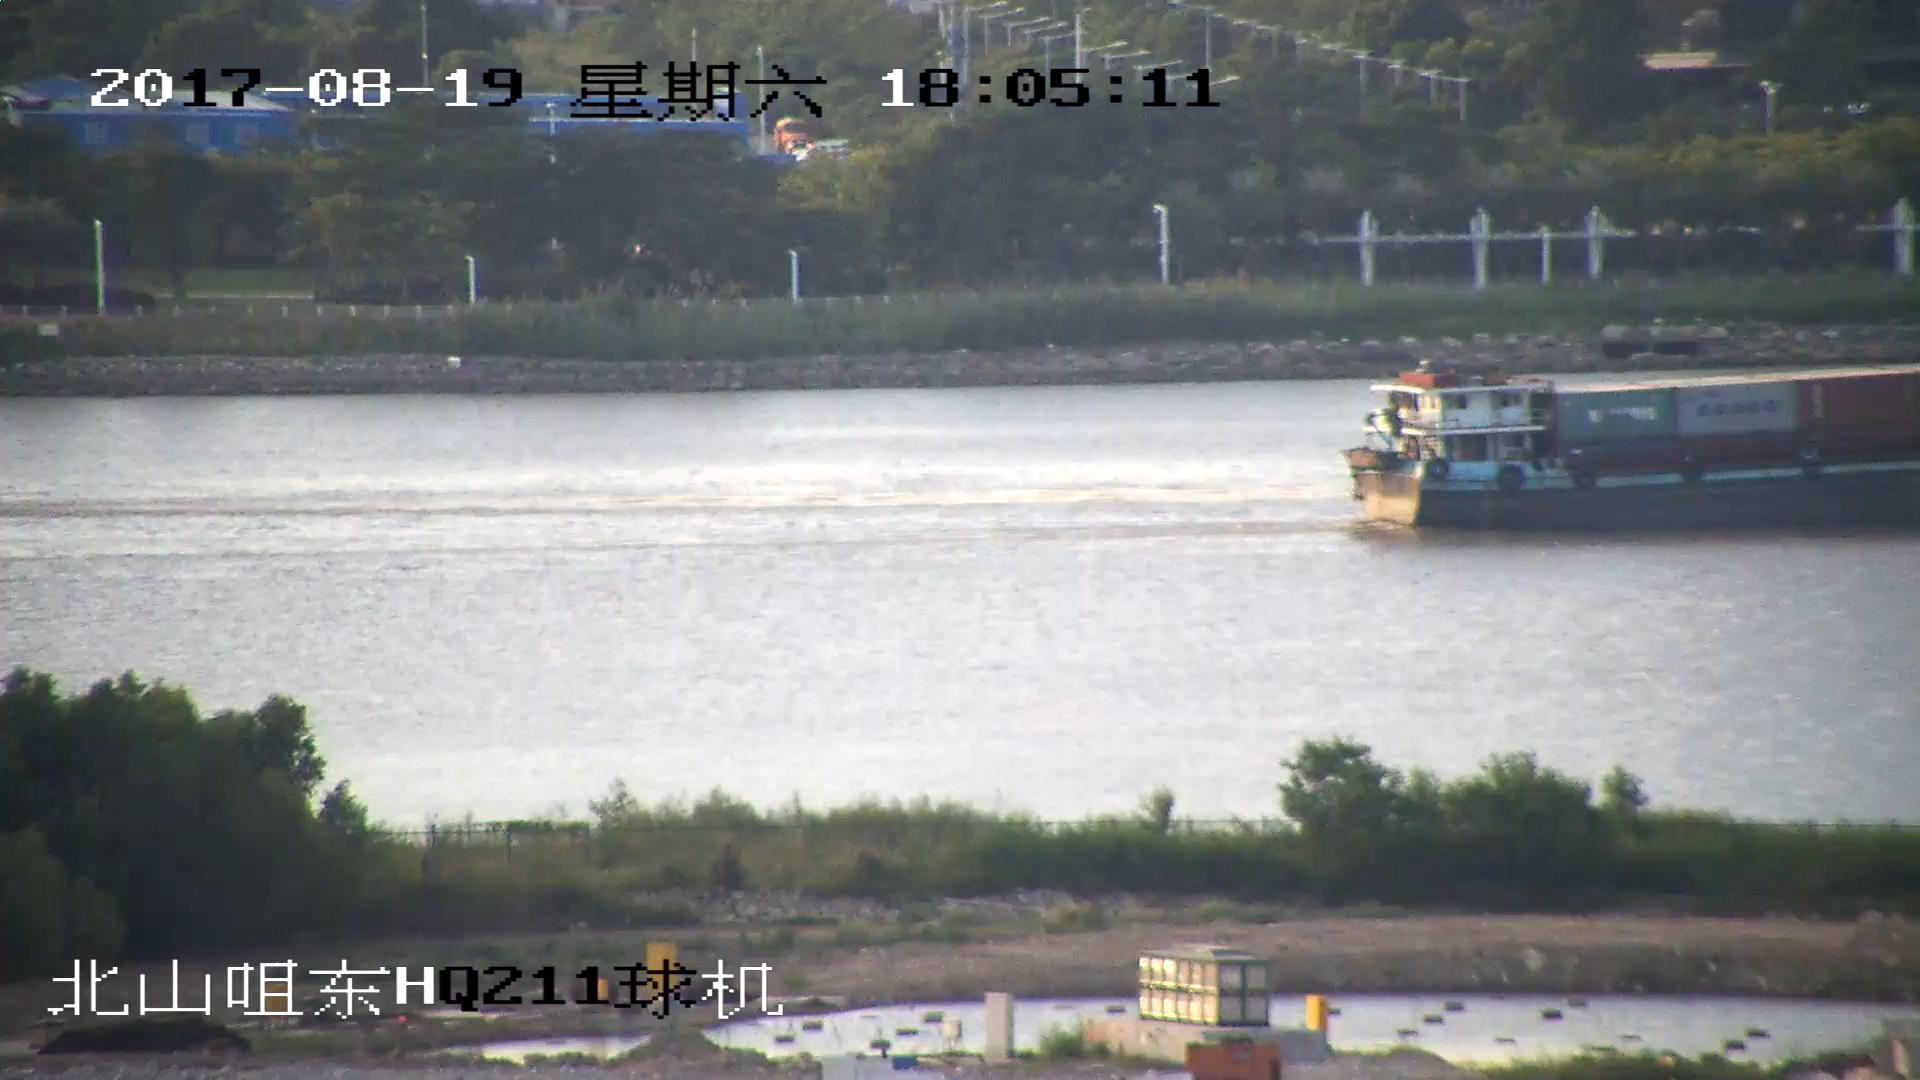Ship: (1340, 367, 1920, 535)
